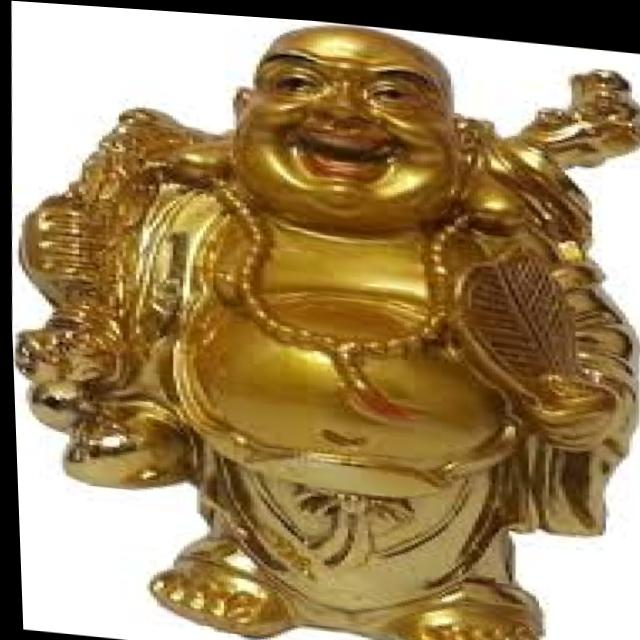Smiling Buddha: (77, 4, 589, 640)
